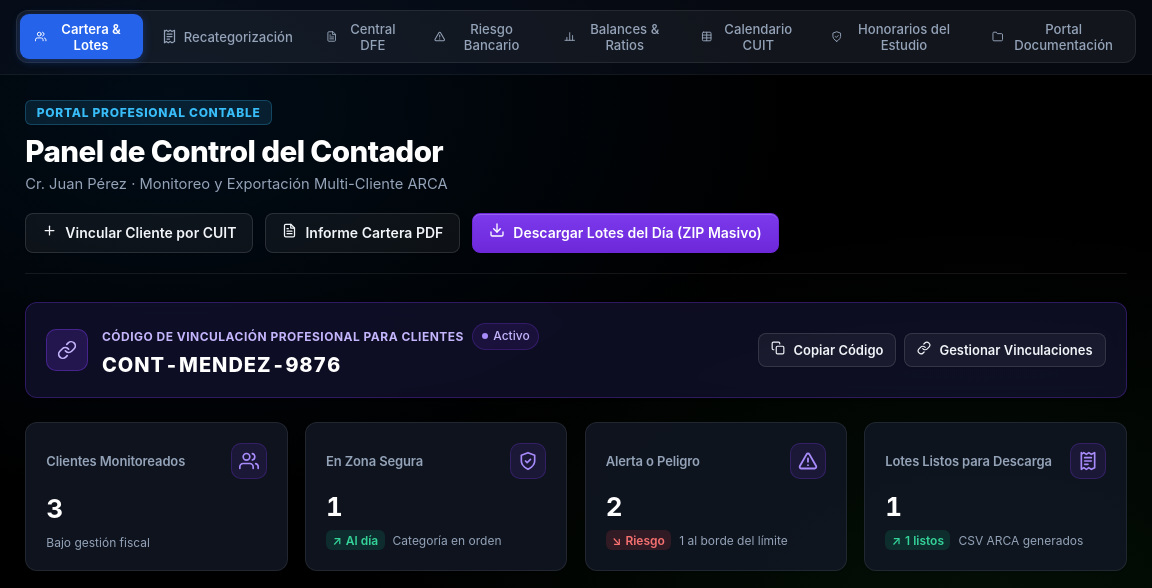
Accountant Advanced Features Suite › 8. AccountantPortal conmuta limpiamente entre todas las pestañas profesionales
Check: the tab "Cartera & Lotes" is shown, box top-left (20, 14), bottom-right (143, 59)
Check: the tab "Central DFE" is shown, box top-left (311, 14), bottom-right (416, 59)
Note: Clic en pestaña Recategorización
Click the tab "Recategorización" at (227, 37), box top-left (146, 22), bottom-right (308, 51)
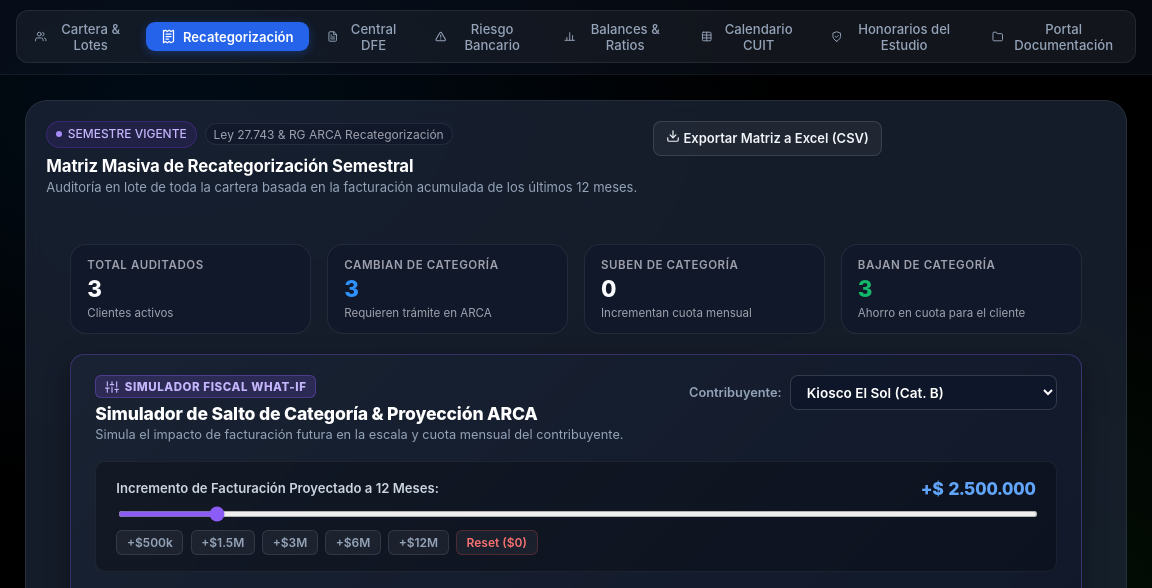
Check: the heading "Matriz Masiva de Recategorización Semestral" is shown, box top-left (46, 156), bottom-right (413, 176)
Note: Clic en pestaña Central DFE
Click the tab "Central DFE" at (364, 37), box top-left (312, 14), bottom-right (417, 59)
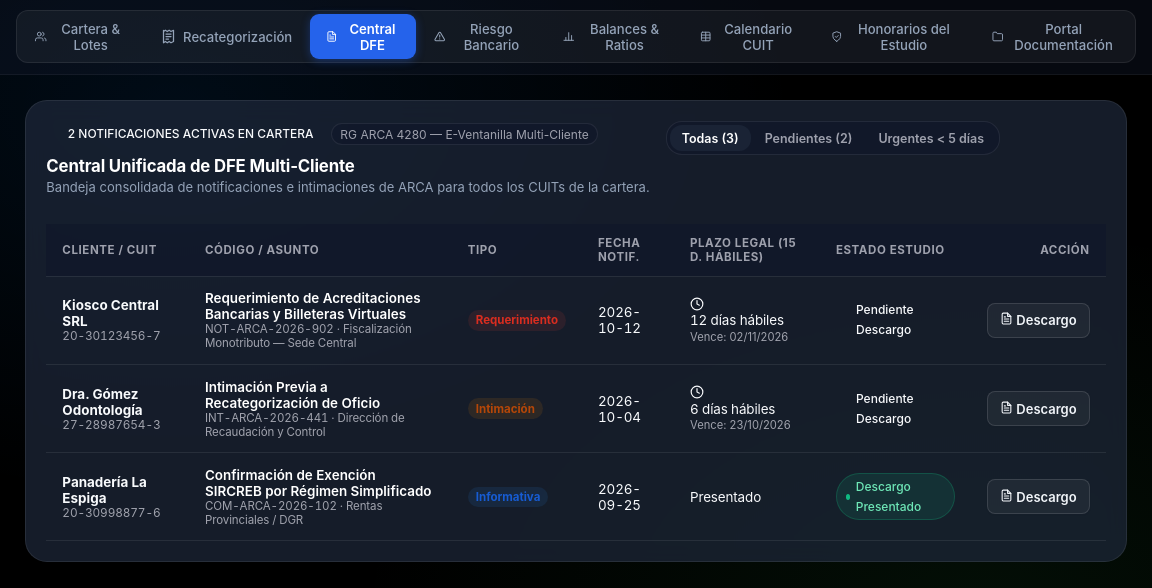
Check: the heading "Central Unificada de DFE Multi-Cliente" is shown, box top-left (46, 156), bottom-right (355, 176)
Note: Clic en pestaña Riesgo Bancario
Click the tab "Riesgo Bancario" at (482, 37), box top-left (419, 14), bottom-right (545, 59)
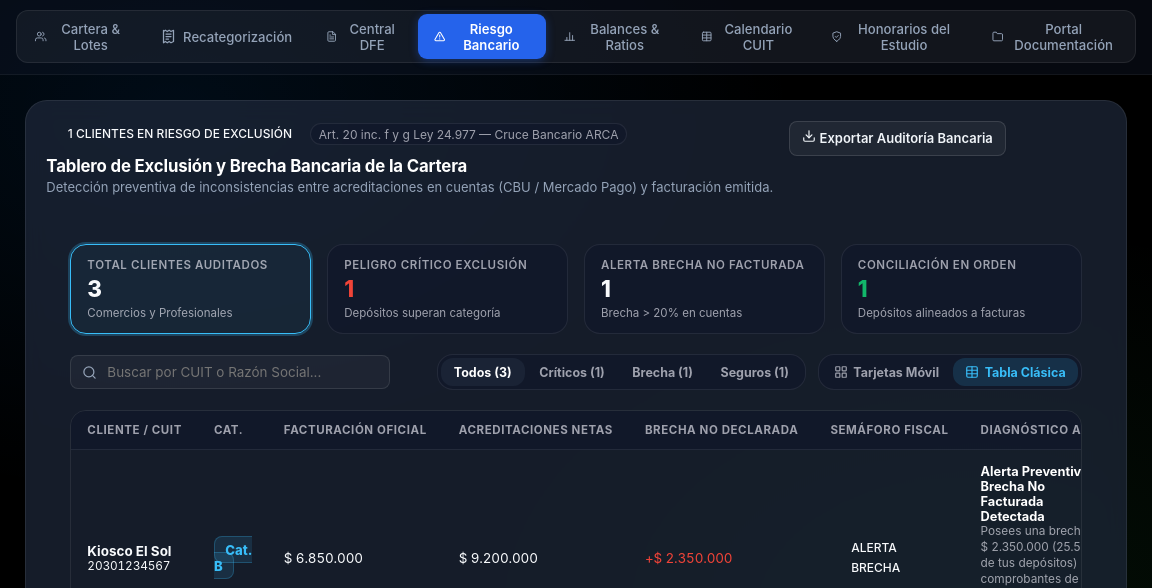
Check: the heading "Tablero de Exclusión y Brecha Bancaria de la Cartera" is shown, box top-left (46, 156), bottom-right (467, 176)
Note: Clic en pestaña Calendario CUIT
Click the tab "Calendario CUIT" at (749, 37), box top-left (685, 14), bottom-right (813, 59)
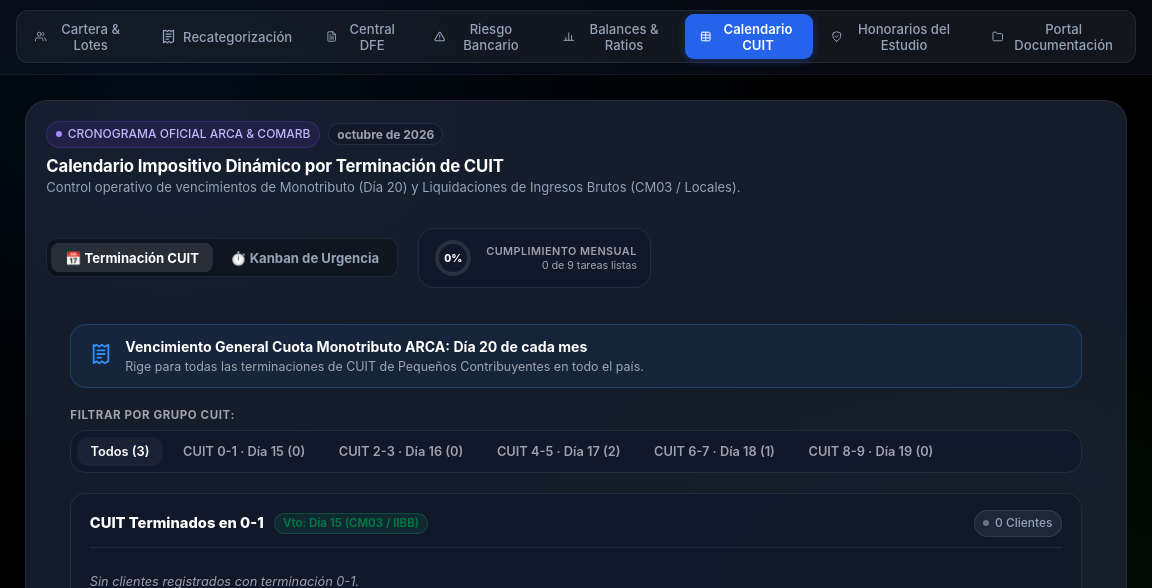
Check: the heading "Calendario Impositivo Dinámico por Terminación de CUIT" is shown, box top-left (46, 156), bottom-right (504, 176)
Note: Clic en pestaña Honorarios
Click the tab "Honorarios del Estudio" at (895, 37), box top-left (816, 14), bottom-right (974, 59)
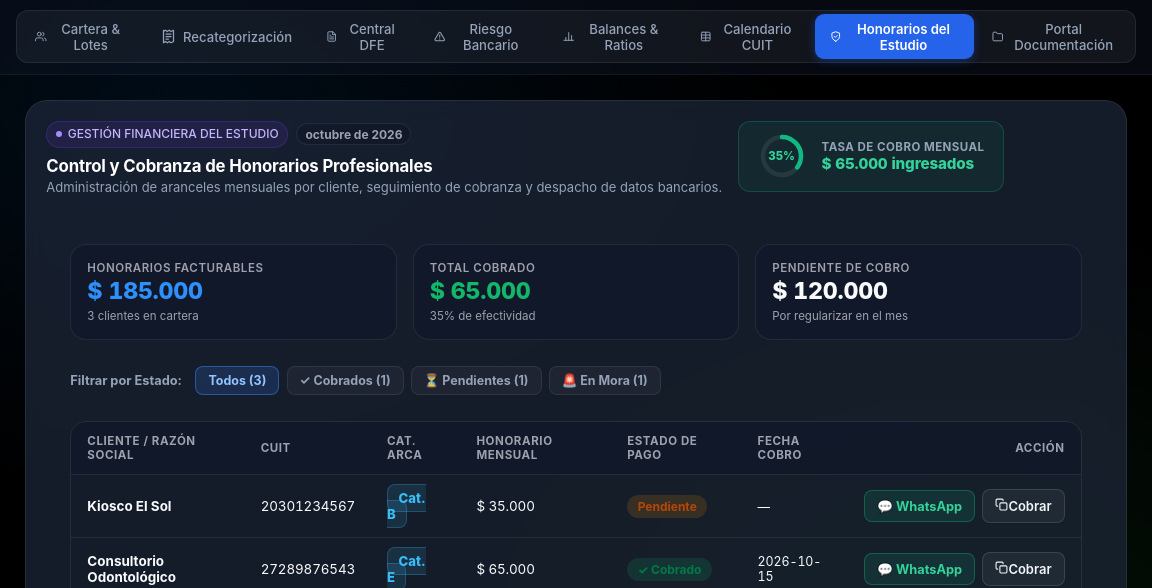
Check: the heading "Control y Cobranza de Honorarios Profesionales" is shown, box top-left (46, 156), bottom-right (432, 176)
Note: Volver a Cartera & Lotes
Click the tab "Cartera & Lotes" at (81, 37), box top-left (20, 14), bottom-right (143, 59)
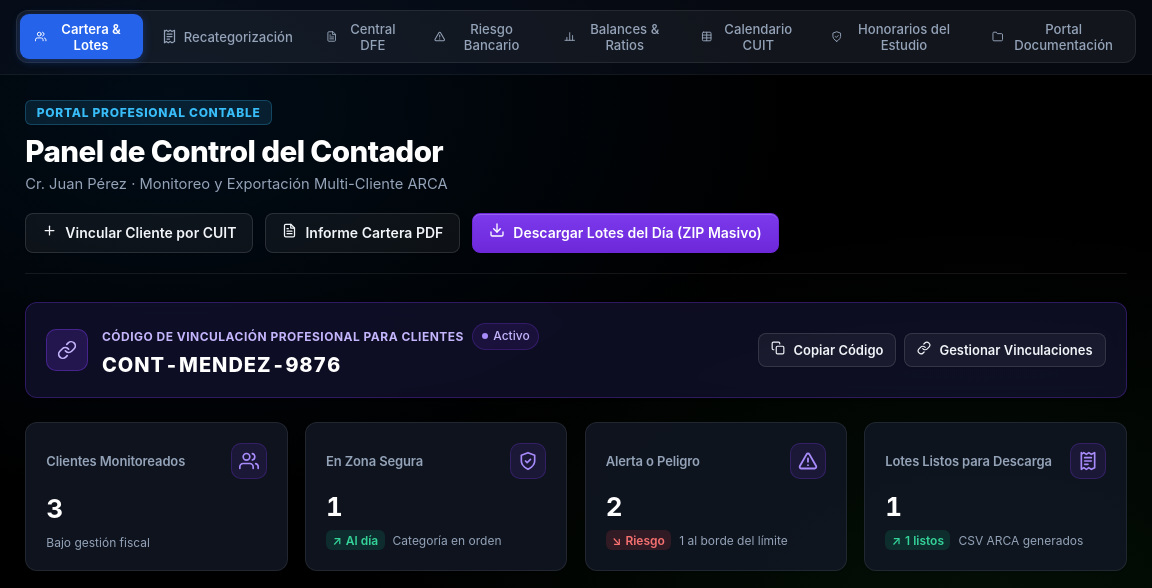
Check: the text "Descargar Lotes del Día (ZIP Masivo)" is shown, box top-left (513, 223), bottom-right (762, 243)
